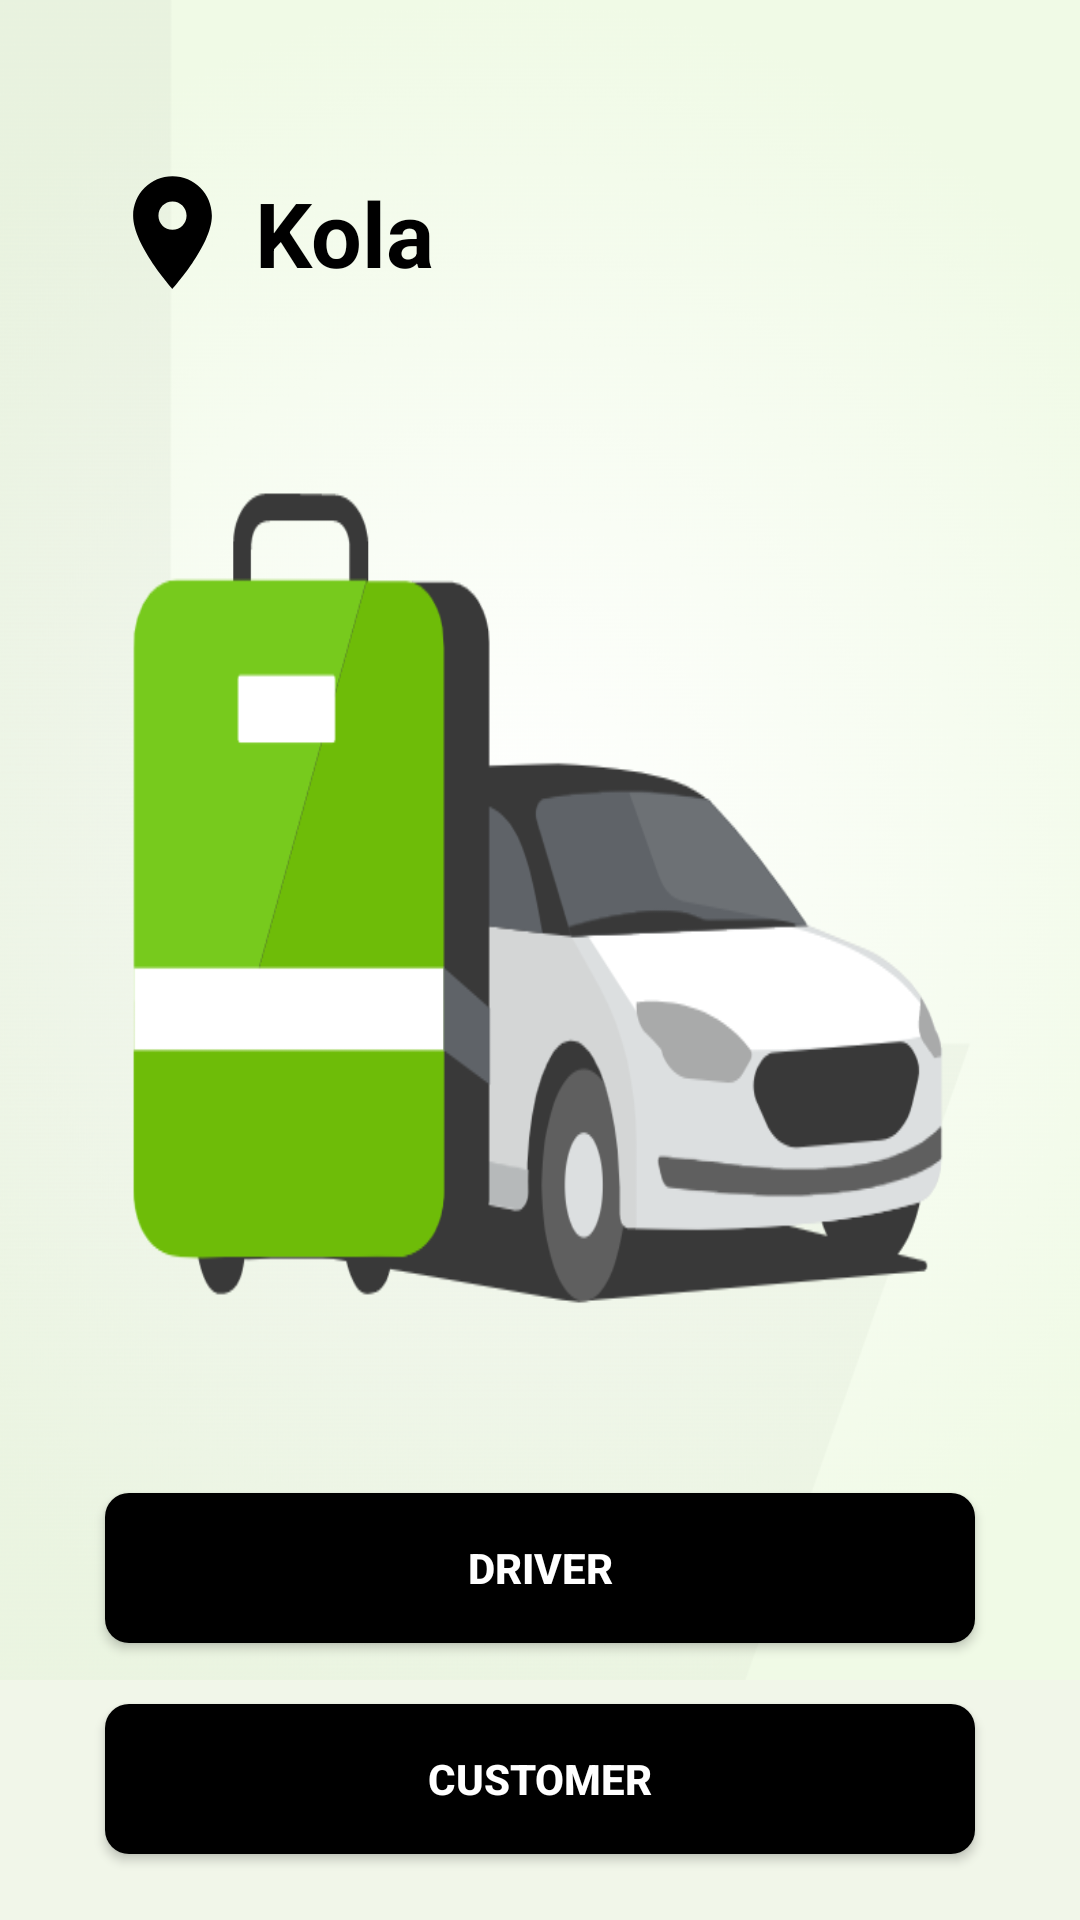

Screen size 1080x1920. Icon name, then its box in pixels as bbox=(x1, y1, x2, y2):
location on: bbox=(133, 176, 212, 289)
